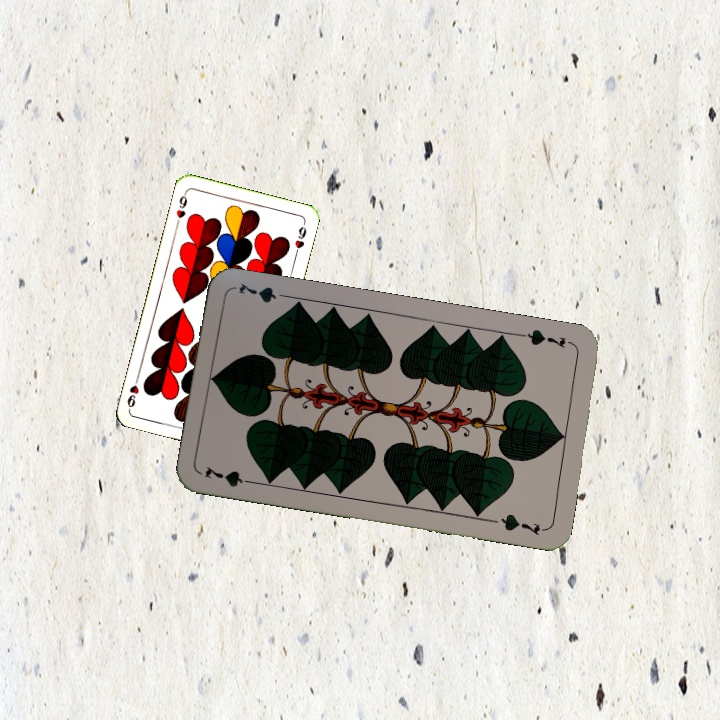G7: (200, 462, 259, 490), (517, 325, 576, 351)
H9: (172, 188, 190, 228)
